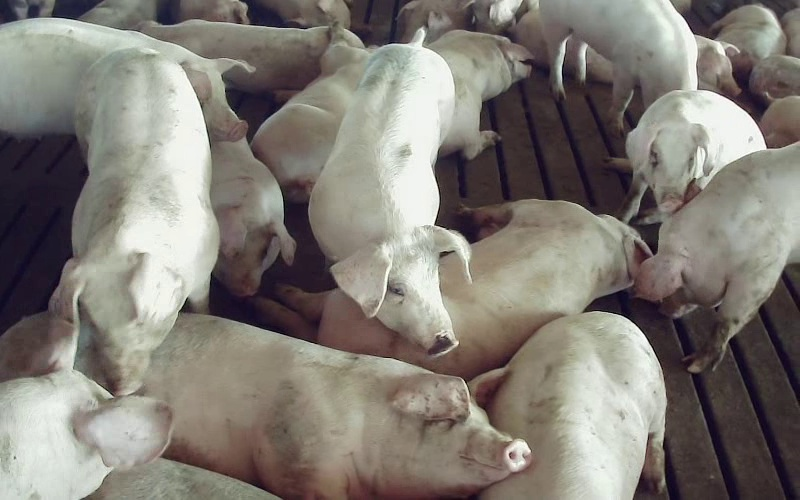pig: (141, 315, 530, 499), (252, 199, 650, 378), (50, 48, 218, 394), (309, 29, 469, 353), (634, 142, 799, 372), (482, 312, 664, 499), (0, 18, 252, 140), (539, 0, 696, 133), (607, 90, 765, 222), (251, 27, 369, 201), (139, 19, 328, 92), (210, 138, 295, 297), (428, 30, 532, 159)
